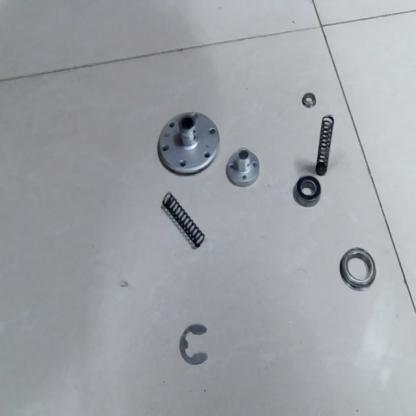FOD: (153, 107, 221, 178), (160, 188, 208, 250), (338, 246, 378, 292), (226, 145, 261, 190), (177, 323, 212, 368), (314, 113, 335, 175), (293, 174, 321, 206), (300, 90, 318, 111)
